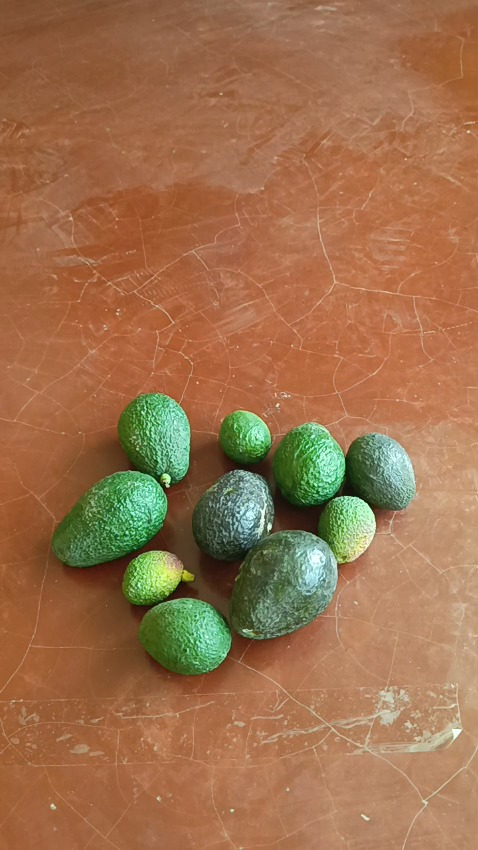Primera: (228, 530, 338, 639), (52, 470, 168, 566), (191, 470, 274, 560), (116, 392, 192, 483), (271, 423, 346, 506)
Segunda: (136, 596, 230, 672), (344, 433, 416, 510)
Tercera: (316, 495, 375, 563), (122, 549, 192, 604), (218, 410, 271, 464)
